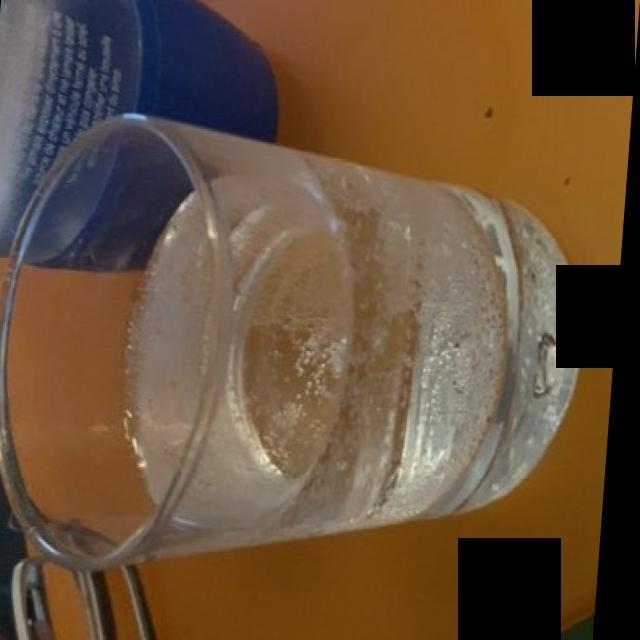water: (128, 154, 520, 538), (134, 154, 513, 541)
